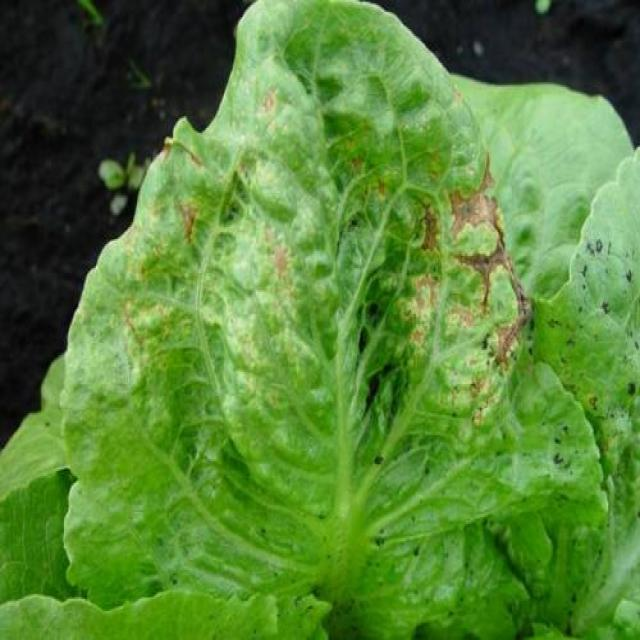Bacterial: (366, 146, 561, 451)
